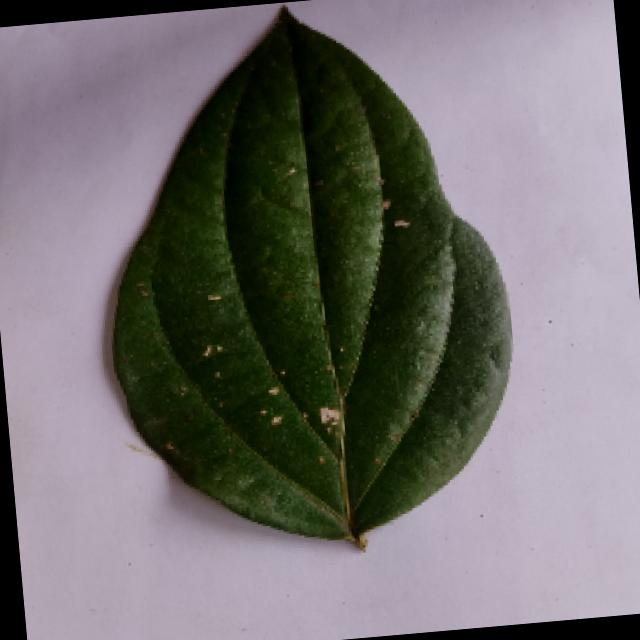pollu-disease: (83, 0, 521, 567)
